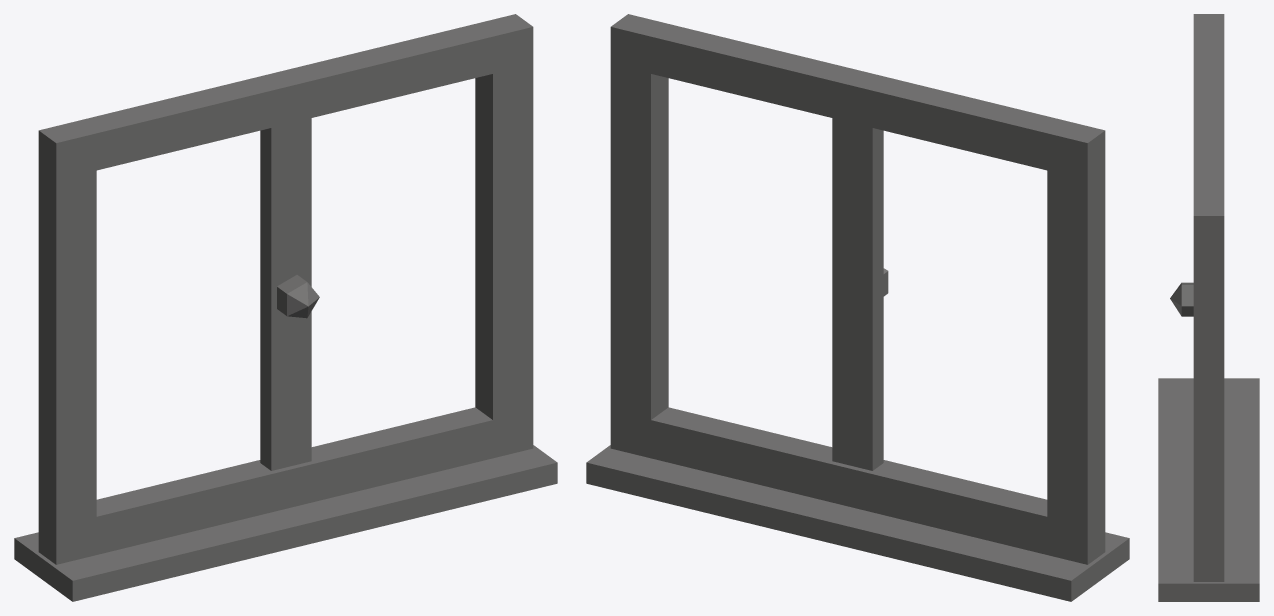
File: Window_1B.fbx
3 views of the same model, side by side, from view 1: azimuth 30°, elevation 25°; view 2: azimuth 150°, elevation 25°; view 3: azimuth 270°, elevation 25° (orthographic). The views are drawn at different scales.
Parts seen in each view (by area): view 1: polySurface1613; view 2: polySurface1613; view 3: polySurface1613.
Part boxes in pixels (left/top/right/bottom): polySurface1613: left=14, top=14, right=557, bottom=601; polySurface1613: left=586, top=14, right=1129, bottom=601; polySurface1613: left=1158, top=14, right=1259, bottom=601.
Size of the model in its own units: 2.4 by 2.09 by 0.5.
1 material, 1 textured.
